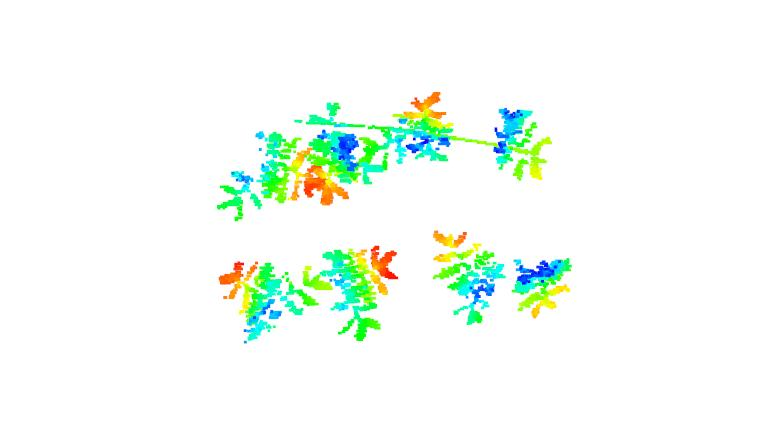chickpea: (216, 257, 334, 348), (214, 126, 307, 222), (295, 99, 379, 200), (427, 223, 505, 326), (321, 242, 400, 342), (377, 89, 455, 167), (487, 99, 554, 182), (510, 251, 574, 315)
